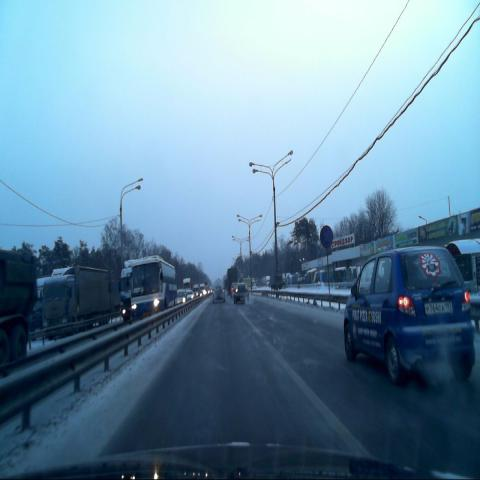3_27: (320, 224, 333, 248)
